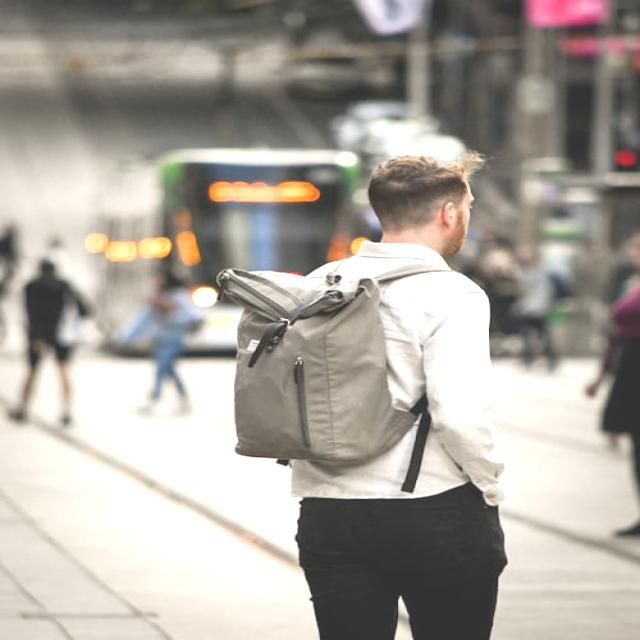backpack: (217, 258, 457, 470)
